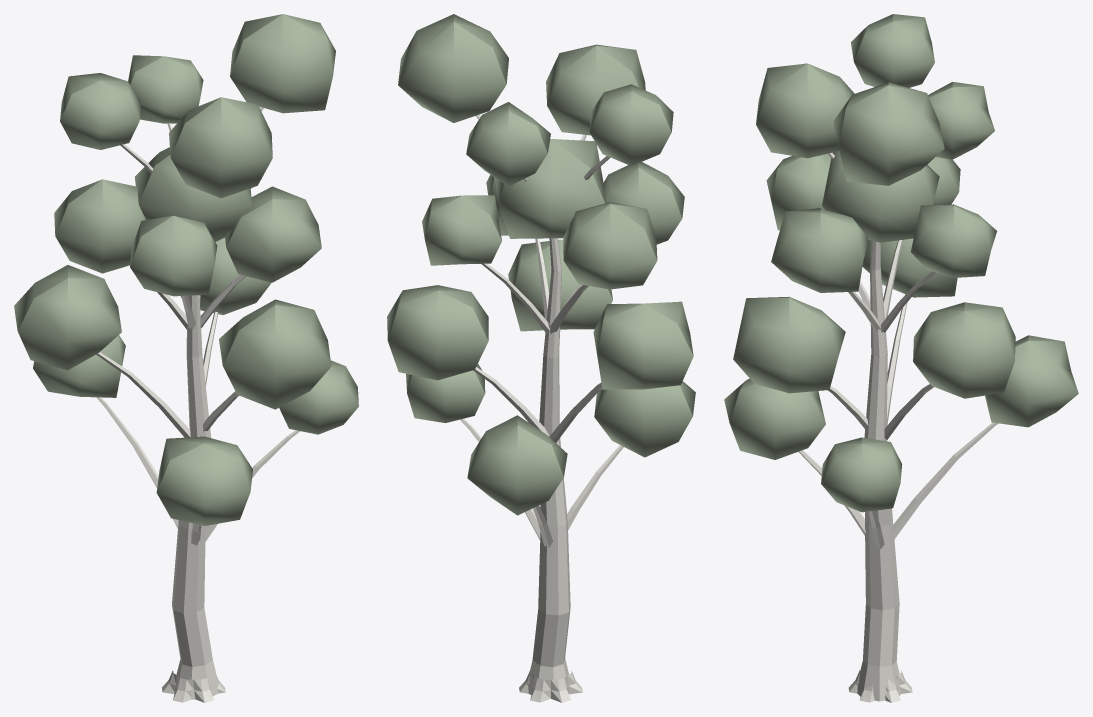
The model's file is dense-temperate-forest-flora-ash-old-0214e9a7__28324.glb.
The picture shows the model from 3 angles, left to right: view 1: azimuth 30°, elevation 25°; view 2: azimuth 150°, elevation 25°; view 3: azimuth 270°, elevation 25°; orthographic projection.
Parts seen in each view (by area): view 1: ash-old; view 2: ash-old; view 3: ash-old.
Part boxes in pixels (box(x1,y1,x2,y2)): ash-old: box(14, 14, 358, 702); ash-old: box(387, 14, 695, 702); ash-old: box(724, 14, 1078, 702).
Size of the model in its own units: 11.04 by 21.82 by 10.78.
